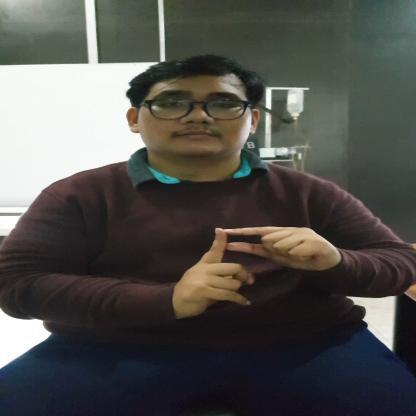P: (172, 225, 336, 318)
